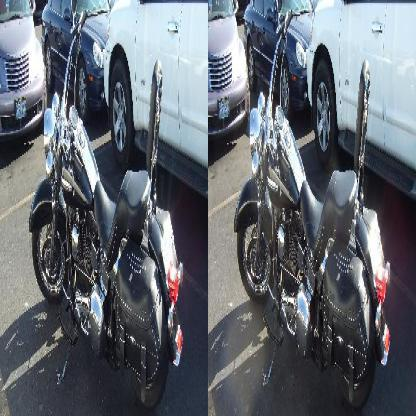motorcycle: (234, 2, 392, 416), (34, 42, 183, 392)
